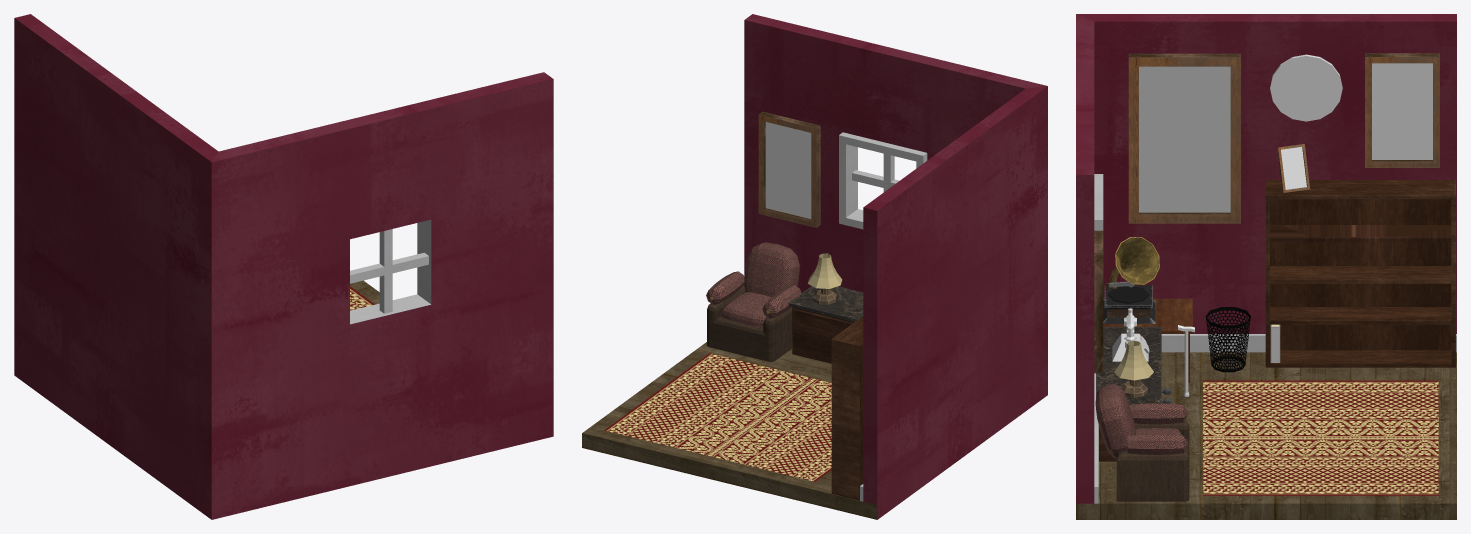
Rendered from DementiaLand.fbx.
3 renders of one model, left to right at view 1: azimuth 30°, elevation 25°; view 2: azimuth 150°, elevation 25°; view 3: azimuth 270°, elevation 25°, orthographic. The views are drawn at different scales.
Visible parts, largest first — view 1: Room; view 2: Room, Carpet, Chair, Picture2, BookShelf, Dresser, Lamp; view 3: Room, BookShelf, Carpet, Picture3, Picture, Chair, Clock, Phonograph, Dresser, GarbageCan, Table, Picture2 (+3 smaller).
Boxes of the visible parts, <box> form: Room: <box>14,14,553,519</box>; Room: <box>582,14,1047,519</box>; Carpet: <box>604,353,831,481</box>; Chair: <box>706,242,801,361</box>; Picture2: <box>758,111,820,227</box>; BookShelf: <box>831,316,863,500</box>; Dresser: <box>788,286,863,363</box>; Lamp: <box>807,253,842,304</box>; Room: <box>1076,14,1456,519</box>; BookShelf: <box>1265,180,1455,367</box>; Carpet: <box>1203,380,1438,495</box>; Picture3: <box>1128,53,1240,223</box>; Picture: <box>1365,53,1439,167</box>; Chair: <box>1095,384,1189,501</box>; Clock: <box>1270,54,1342,121</box>; Phonograph: <box>1103,237,1159,323</box>; Dresser: <box>1096,327,1171,461</box>; GarbageCan: <box>1205,307,1250,372</box>; Table: <box>1103,298,1192,382</box>; Picture2: <box>1094,230,1103,373</box>.
Size of the model in its own units: 2100 by 2100 by 2100.
